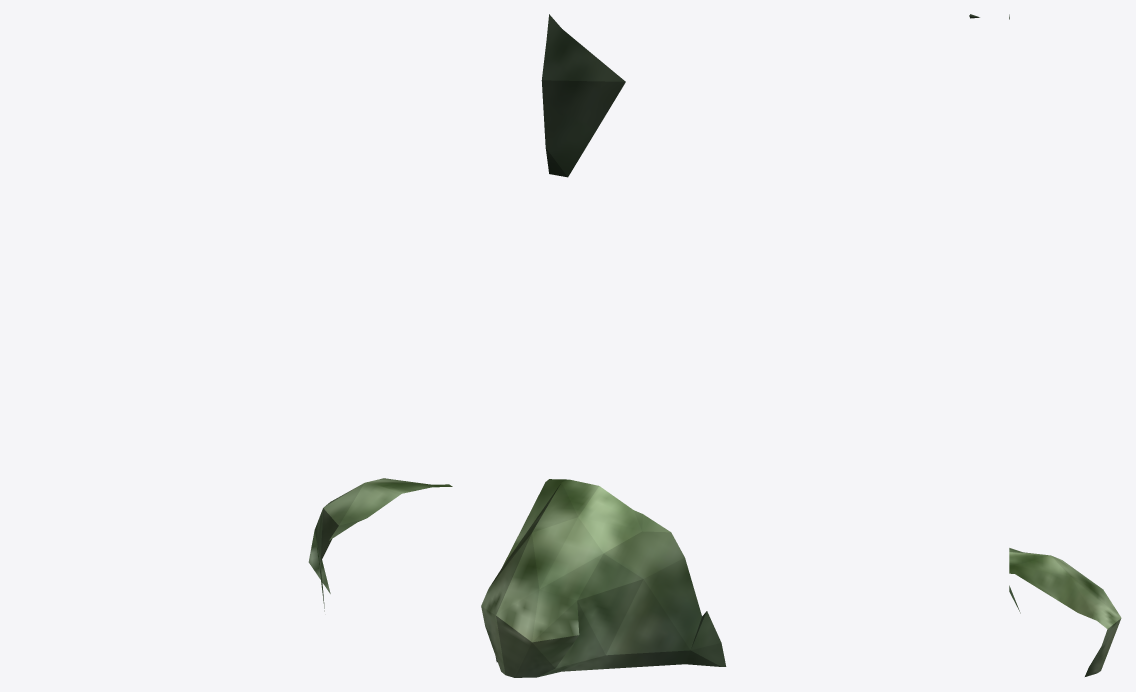
The picture shows the model from 3 angles, left to right: view 1: azimuth 30°, elevation 25°; view 2: azimuth 150°, elevation 25°; view 3: azimuth 270°, elevation 25°; orthographic projection. The views are drawn at different scales.
Bounding box in the file's own units: 0.9915 × 1.56 × 0.3096.
Materials: 1 (1 with a texture image).
